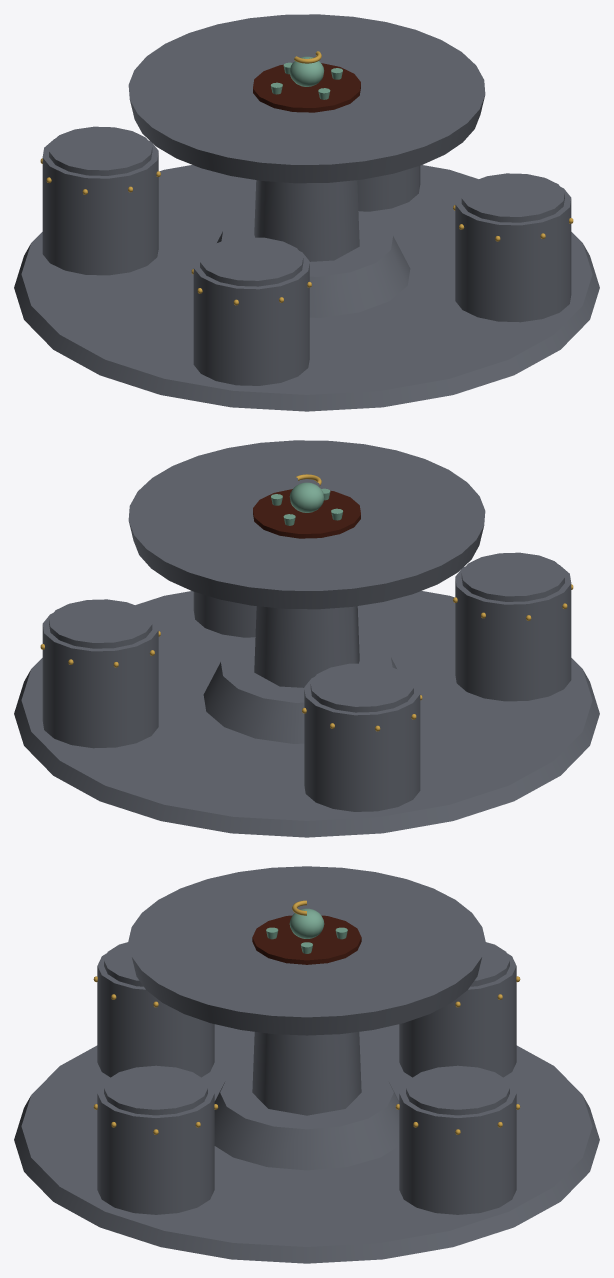
The model's file is pal1-courtyard-stone-table.glb.
3 views of the same model, one above another, from view 1: azimuth 30°, elevation 25°; view 2: azimuth 150°, elevation 25°; view 3: azimuth 270°, elevation 25° (orthographic).
Parts seen in each view (by area): view 1: Pal1StoneTable; view 2: Pal1StoneTable; view 3: Pal1StoneTable.
Part boxes in pixels (x1,y1,x2,y2): Pal1StoneTable: (14, 14, 599, 411); Pal1StoneTable: (14, 440, 599, 837); Pal1StoneTable: (14, 866, 599, 1263).
Size of what is drawn, in the model's own units: 2.36 by 1.04 by 2.36.
